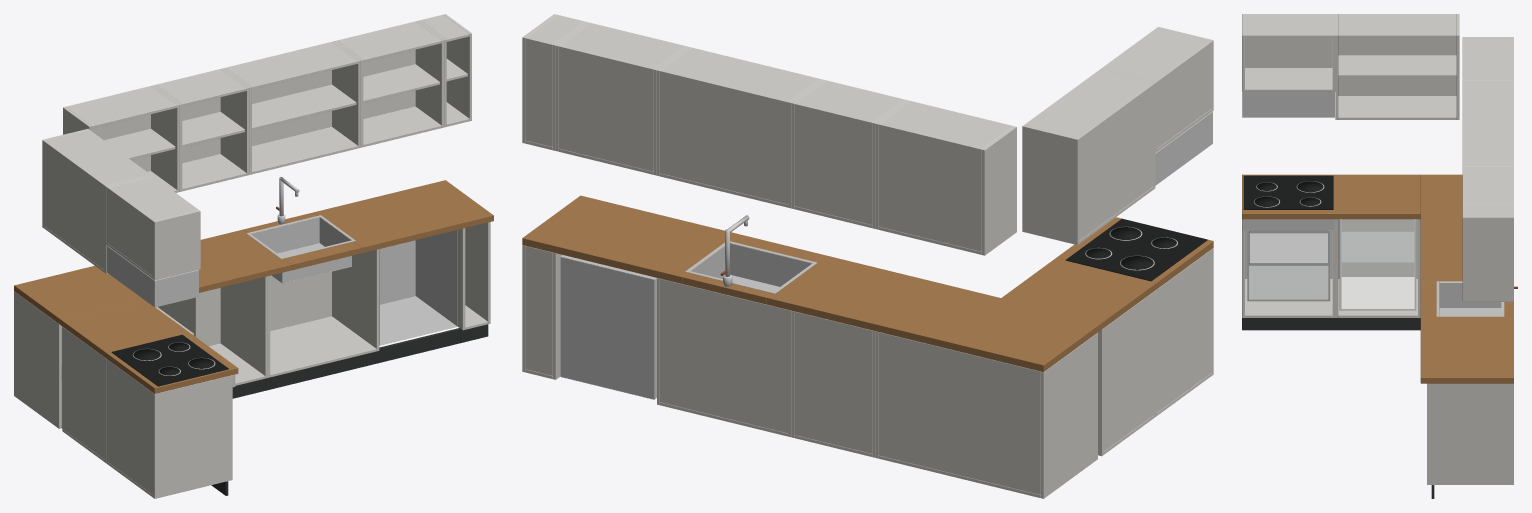
File: l_kitchen_mid_body.glb
3 renders of one model, left to right at view 1: azimuth 30°, elevation 25°; view 2: azimuth 150°, elevation 25°; view 3: azimuth 270°, elevation 25°, orthographic. The views are drawn at different scales.
Parts seen in each view (by area): view 1: l_kitchen_mid_body; view 2: l_kitchen_mid_body; view 3: l_kitchen_mid_body.
Part boxes in pixels (box(x1,y1,x2,y2)): l_kitchen_mid_body: box(14, 14, 493, 498); l_kitchen_mid_body: box(522, 14, 1213, 498); l_kitchen_mid_body: box(1242, 14, 1517, 498).
Size of the model in its own units: 3.1 by 2 by 1.77.
